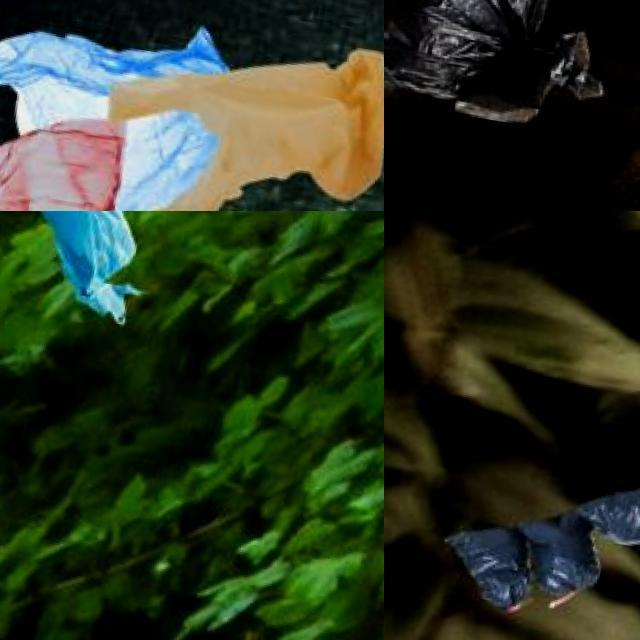waste: (95, 16, 384, 211), (0, 0, 231, 211), (384, 0, 630, 126), (0, 211, 184, 330), (512, 510, 606, 610), (446, 520, 540, 612), (566, 476, 640, 548)
